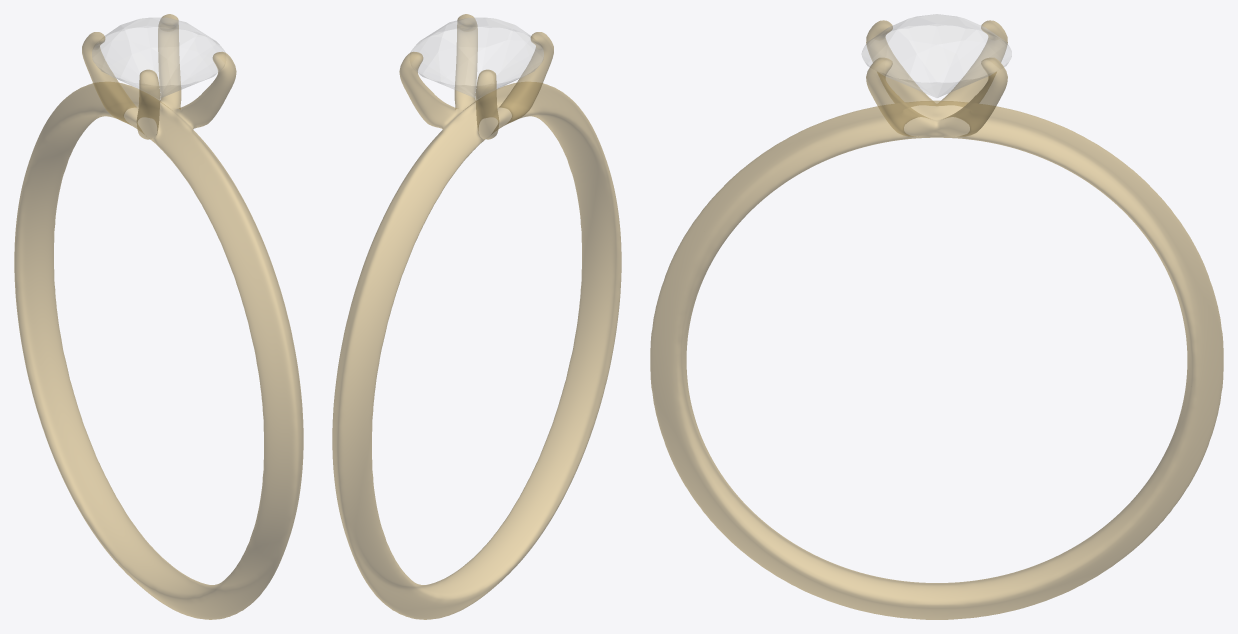
3 views of the same model, side by side, from view 1: azimuth 30°, elevation 25°; view 2: azimuth 150°, elevation 25°; view 3: azimuth 270°, elevation 25° (orthographic). The views are drawn at different scales.
Parts seen in each view (by area): view 1: Ring, Diamond; view 2: Ring, Diamond; view 3: Ring, Diamond.
Boxes of the visible parts, left/top/right/bottom form: Ring: left=14, top=14, right=303, bottom=619; Diamond: left=92, top=18, right=225, bottom=97; Ring: left=332, top=14, right=621, bottom=619; Diamond: left=410, top=18, right=543, bottom=97; Ring: left=650, top=20, right=1223, bottom=619; Diamond: left=862, top=14, right=1011, bottom=97.
Size of the model in its own units: 0.5617 by 2.65 by 2.33.
